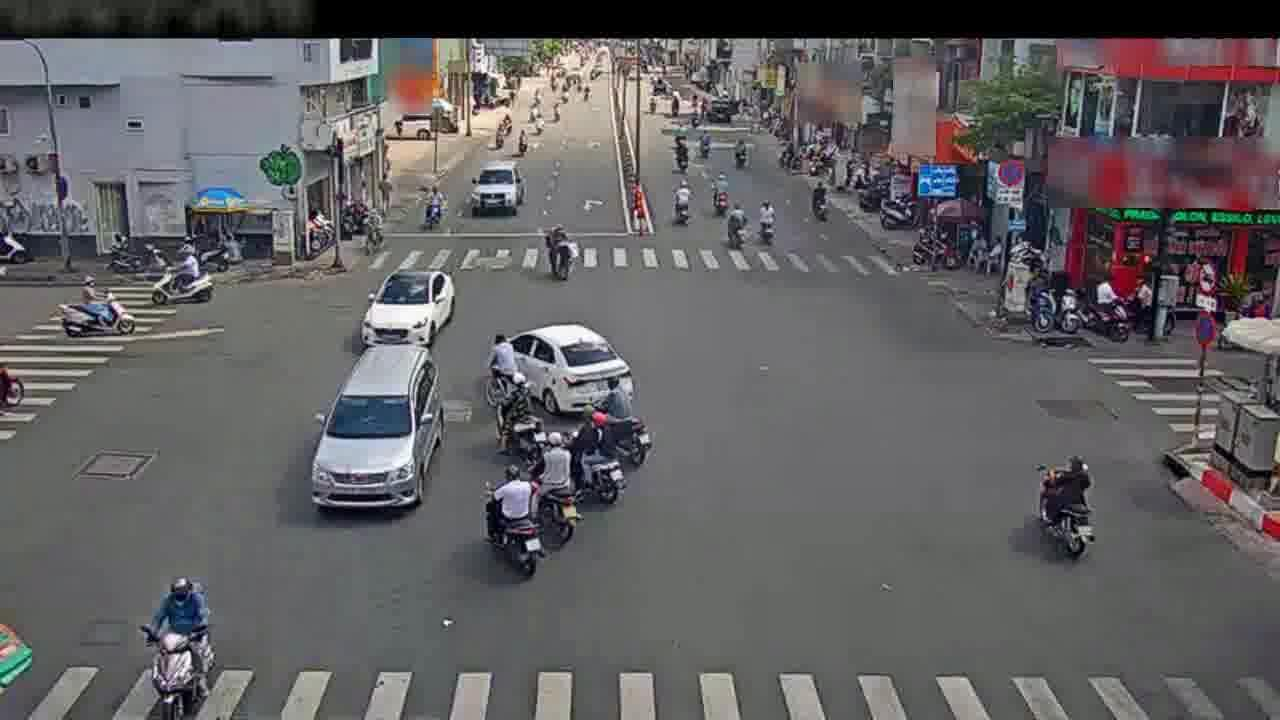container: (314, 338, 434, 513), (506, 317, 626, 415), (364, 266, 448, 344), (471, 163, 521, 222)
motorbike: (147, 573, 215, 714), (477, 454, 550, 577), (563, 411, 627, 517), (523, 437, 581, 550), (1036, 442, 1090, 562), (592, 375, 651, 473), (494, 367, 550, 462), (55, 278, 132, 345), (149, 244, 215, 307), (482, 330, 526, 418), (537, 216, 576, 278), (355, 197, 387, 258), (422, 177, 446, 238), (754, 195, 778, 255), (808, 175, 834, 229), (723, 195, 745, 257), (671, 175, 693, 235), (710, 171, 733, 219), (732, 135, 754, 173), (671, 136, 693, 173)
